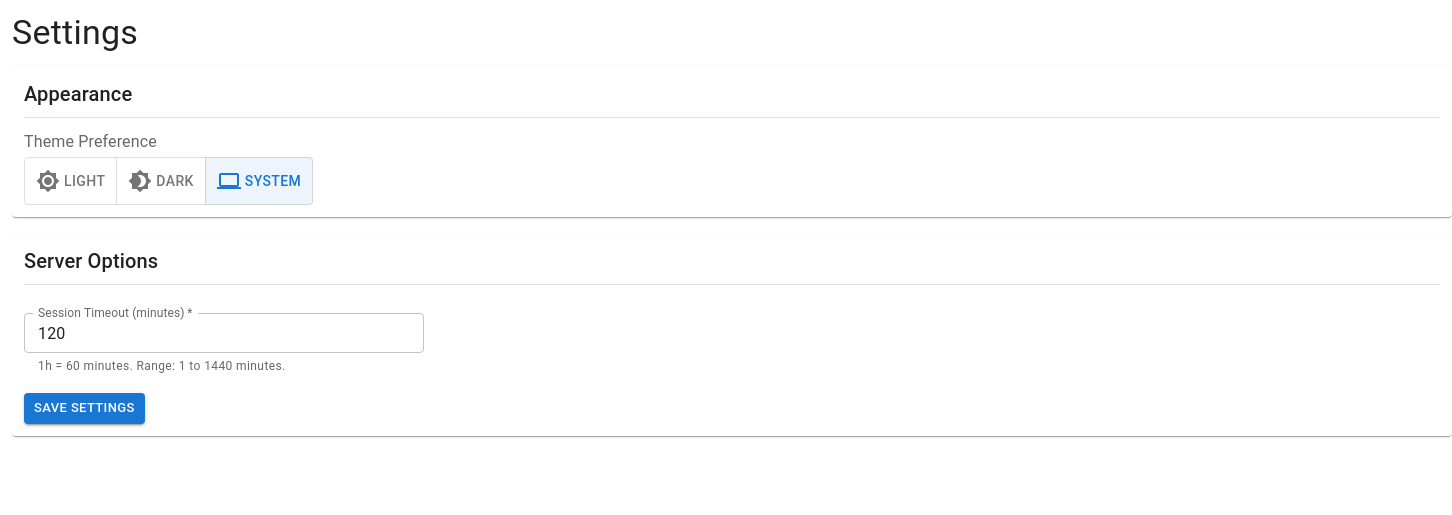
it: SettingsPage › handles update failure
Click the button "Save Settings": (84, 409) [24, 393, 145, 424]
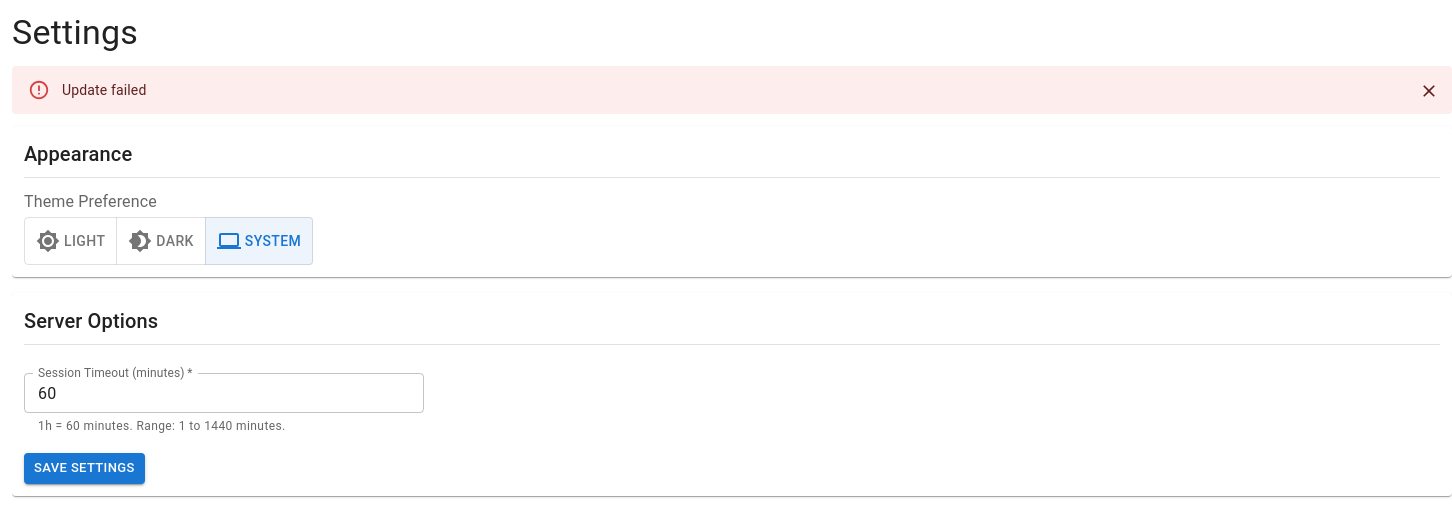
Now the text "Update failed" is shown, box [62, 82, 146, 98]
